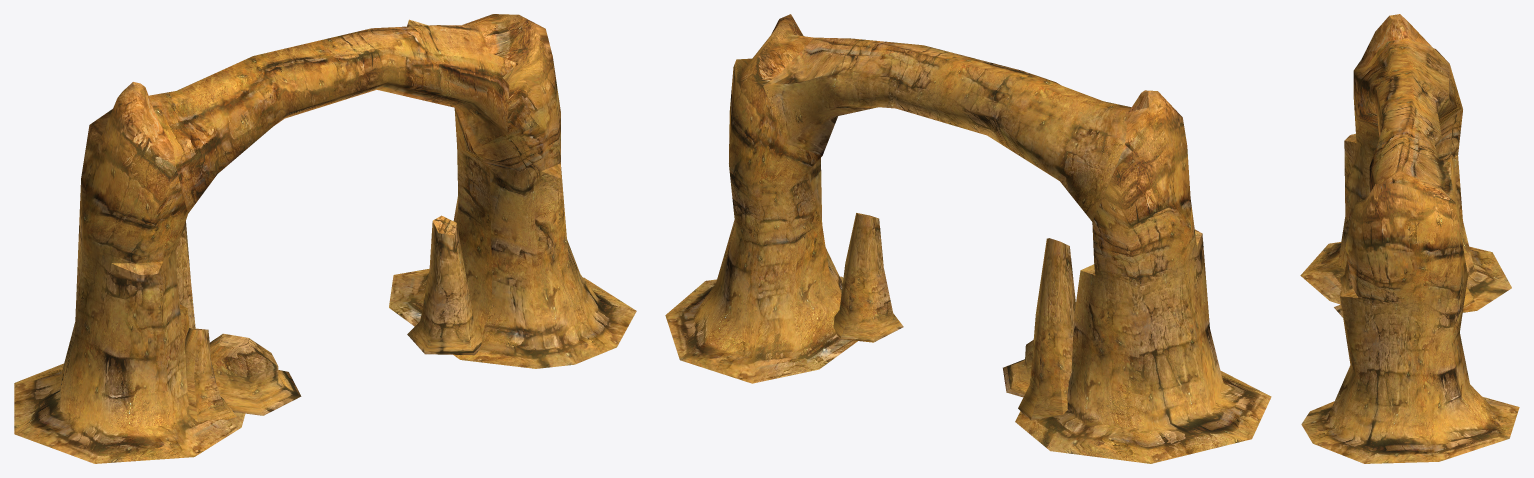
Rendered from SM_EN_2006_shan02.FBX.
3 views of the same model, side by side, from view 1: azimuth 30°, elevation 25°; view 2: azimuth 150°, elevation 25°; view 3: azimuth 270°, elevation 25° (orthographic). The views are drawn at different scales.
Visible parts, largest first — view 1: SM_EN_2006_shan02; view 2: SM_EN_2006_shan02; view 3: SM_EN_2006_shan02.
Part boxes in pixels (box(x1,y1,x2,y2)): SM_EN_2006_shan02: box(14, 14, 636, 463); SM_EN_2006_shan02: box(665, 14, 1271, 463); SM_EN_2006_shan02: box(1300, 14, 1519, 463).
Bounding box in the file's own units: 388 × 206 × 156.
